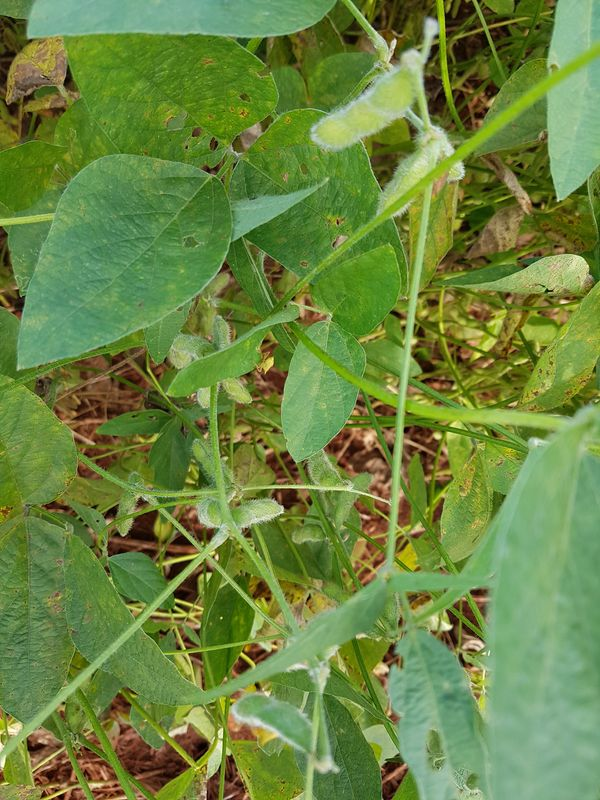Euschistus_heros_ninfa: (249, 347, 283, 380)
